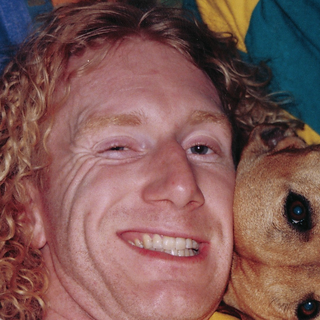eye: (179, 139, 222, 163), (92, 138, 136, 157)
